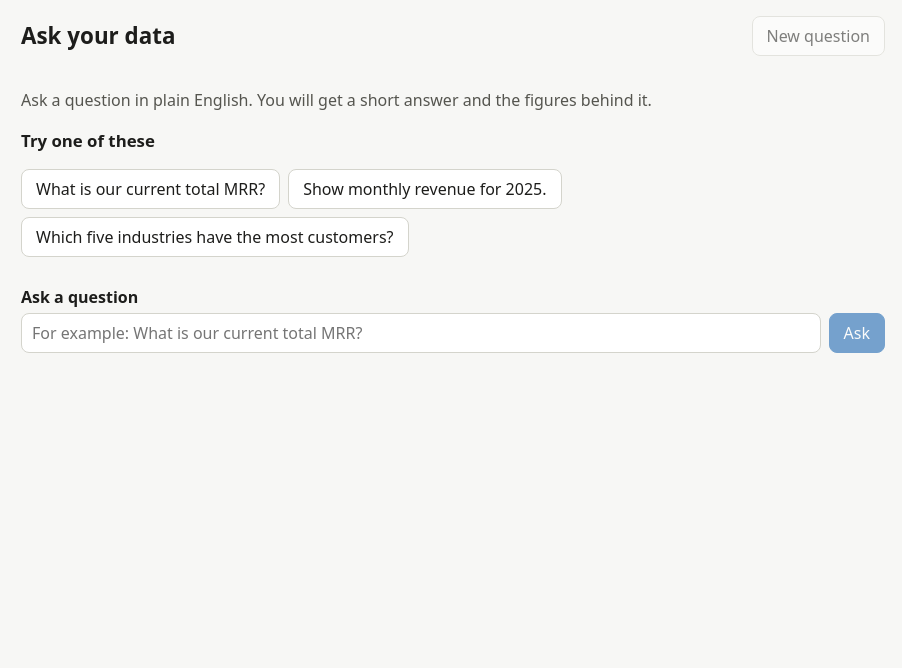
Scenario: asking › tells the person when an earlier conversation ended
Type "Again" into the field labelled "Ask a question" at point(421, 333), box [21,313,821,353]
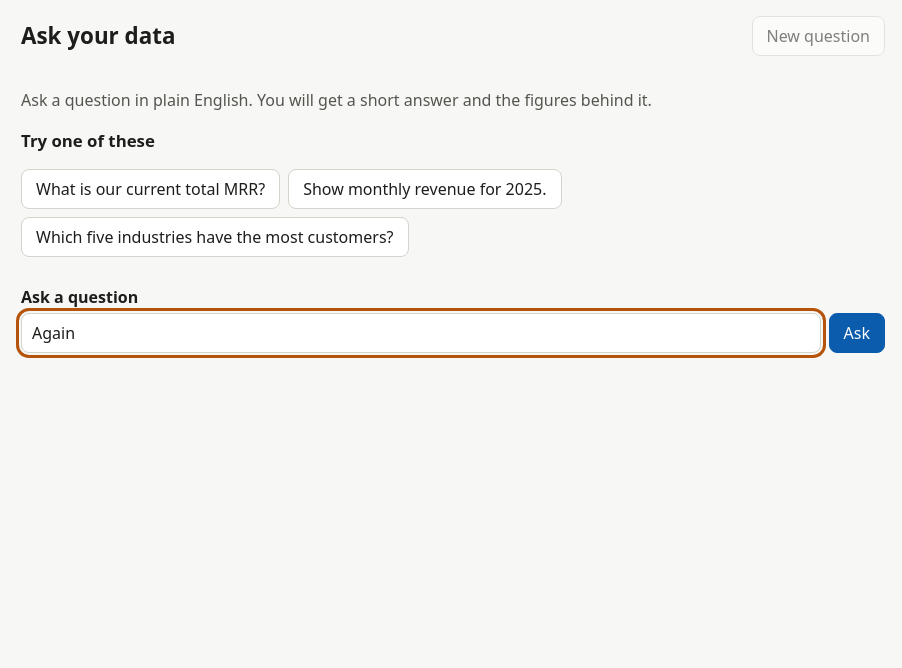
Click the button "Ask" at point(857, 333), box [829,313,885,353]
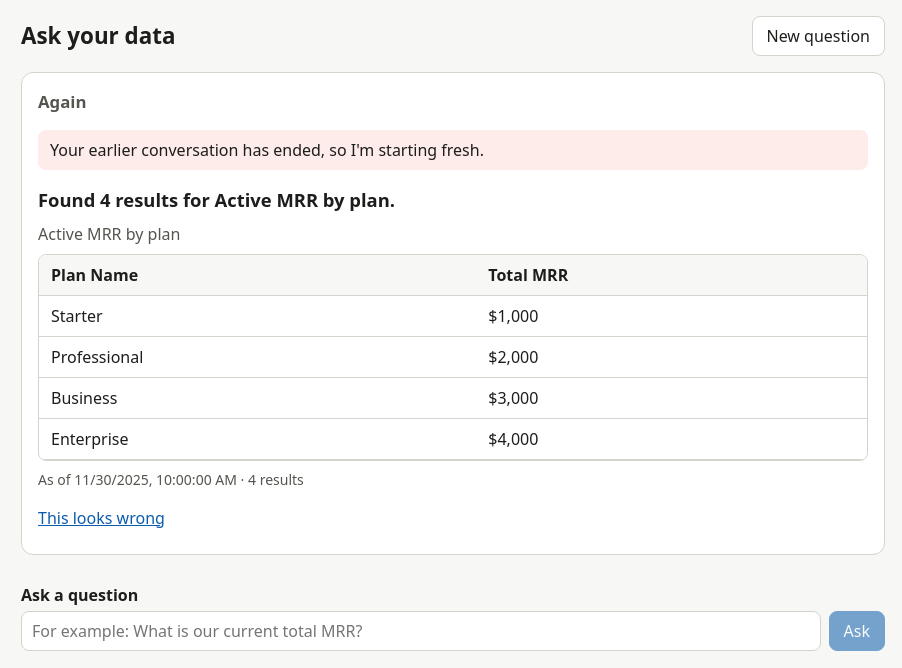
Expected: the text "Your earlier conversation has ended, so I'm starting fresh." is shown, [38,130,868,170]
